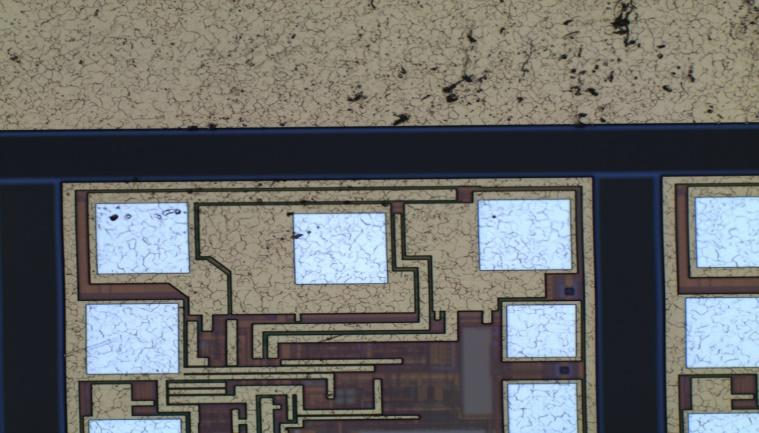PO CONTAMINATION: (2, 1, 759, 247)
